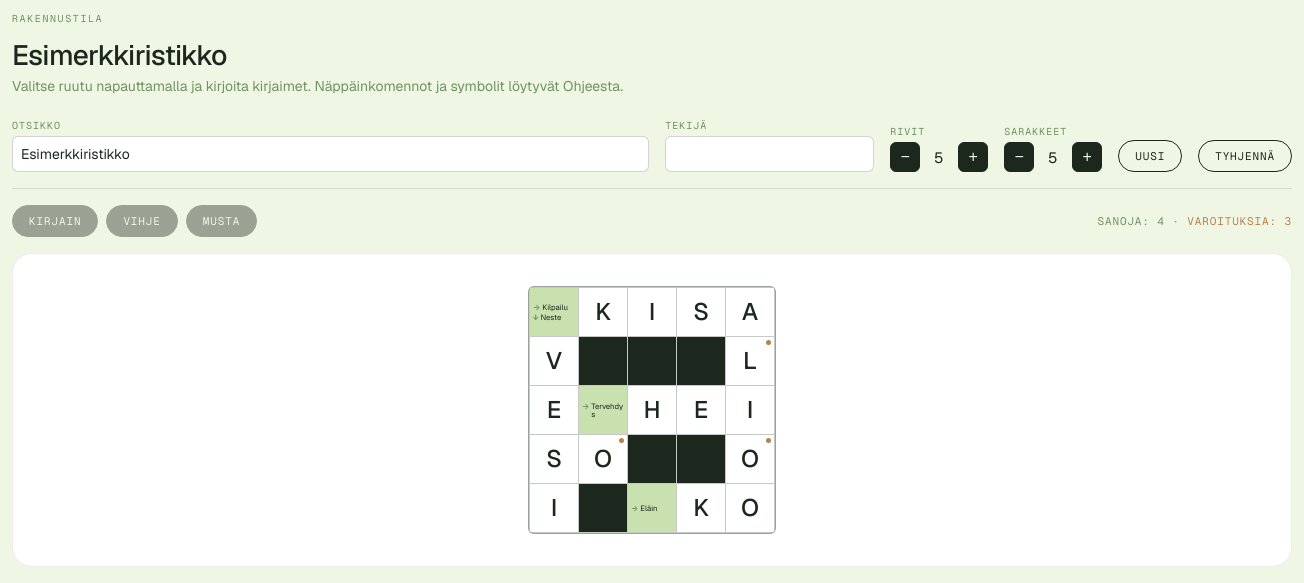
BuildMode — clue editor › shows the editor only for clue cells
Click the 1st cell "K".
click(603, 312)  # box [579, 288, 627, 336]
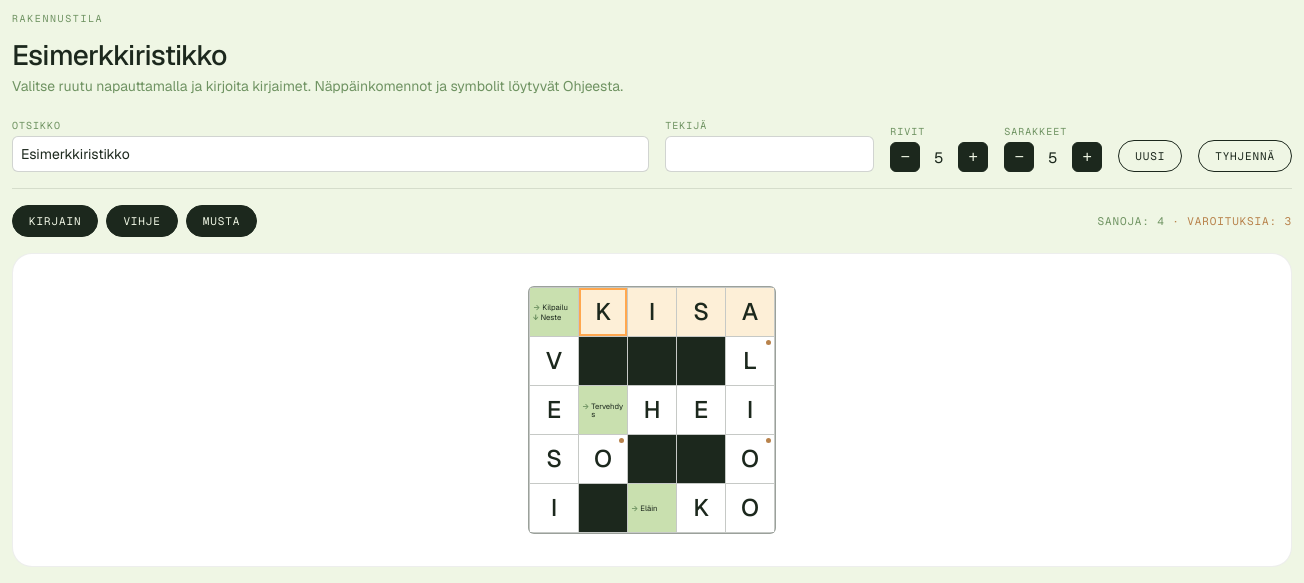
Click the cell "→ Kilpailu ↓ Neste".
click(554, 312)  # box [530, 288, 578, 336]
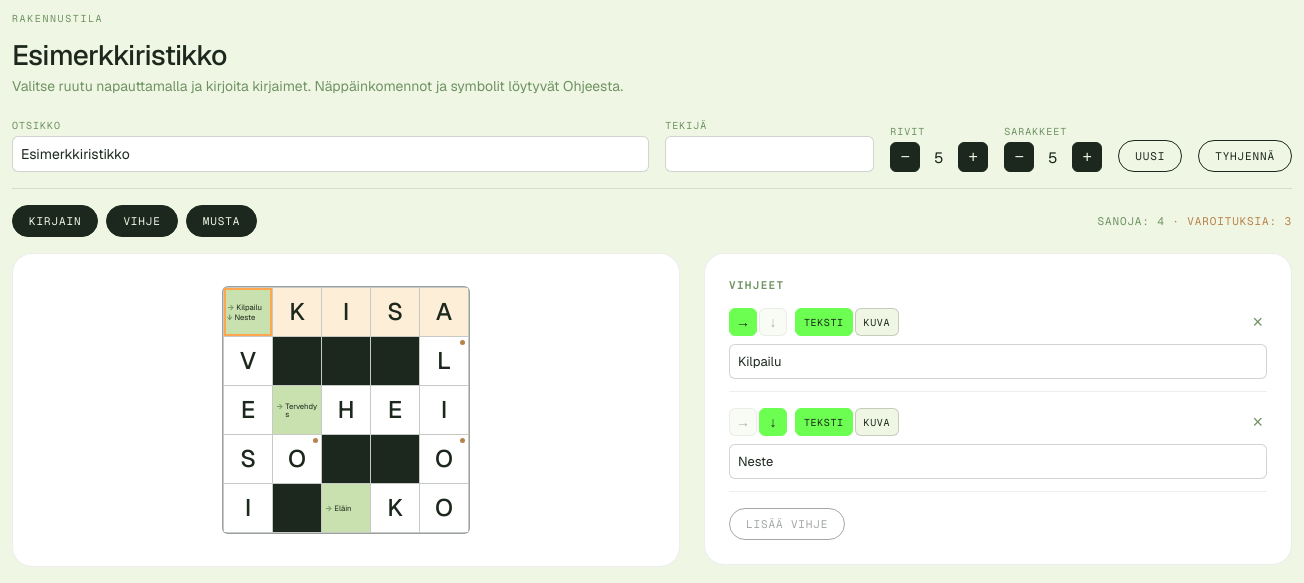
Now the number of elements with class "clue-row" is 2, box [729, 308, 1267, 392]; [729, 408, 1267, 492]
